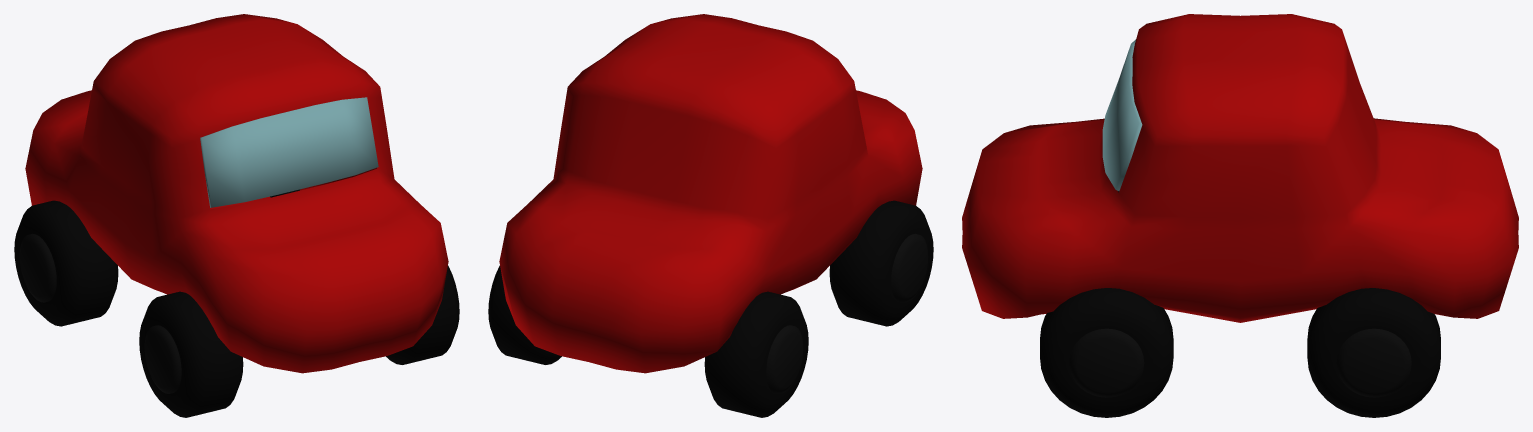
File: car1.obj
The picture shows the model from 3 angles, left to right: view 1: azimuth 30°, elevation 25°; view 2: azimuth 150°, elevation 25°; view 3: azimuth 270°, elevation 25°; orthographic projection. The views are drawn at different scales.
Parts seen in each view (by area): view 1: Car_Car_Car_Body, Car_Car_Tire_Rubber, Car_Car_Car_Glass, Car_Car_Tire_Middle; view 2: Car_Car_Car_Body, Car_Car_Tire_Rubber, Car_Car_Tire_Middle; view 3: Car_Car_Car_Body, Car_Car_Tire_Rubber, Car_Car_Tire_Middle, Car_Car_Car_Glass.
Boxes of the visible parts, left/top/right/bottom form: Car_Car_Car_Body: left=25, top=14, right=448, bottom=373; Car_Car_Tire_Rubber: left=14, top=189, right=459, bottom=417; Car_Car_Car_Glass: left=200, top=97, right=378, bottom=207; Car_Car_Tire_Middle: left=19, top=233, right=181, bottom=393; Car_Car_Car_Body: left=499, top=14, right=922, bottom=373; Car_Car_Tire_Rubber: left=488, top=200, right=933, bottom=417; Car_Car_Tire_Middle: left=766, top=233, right=928, bottom=393; Car_Car_Car_Body: left=962, top=14, right=1518, bottom=322; Car_Car_Tire_Rubber: left=1040, top=191, right=1440, bottom=417; Car_Car_Tire_Middle: left=1069, top=328, right=1411, bottom=397; Car_Car_Car_Glass: left=1102, top=39, right=1142, bottom=190.
Size of the model in its own units: 1.3 by 1.27 by 2.08.
